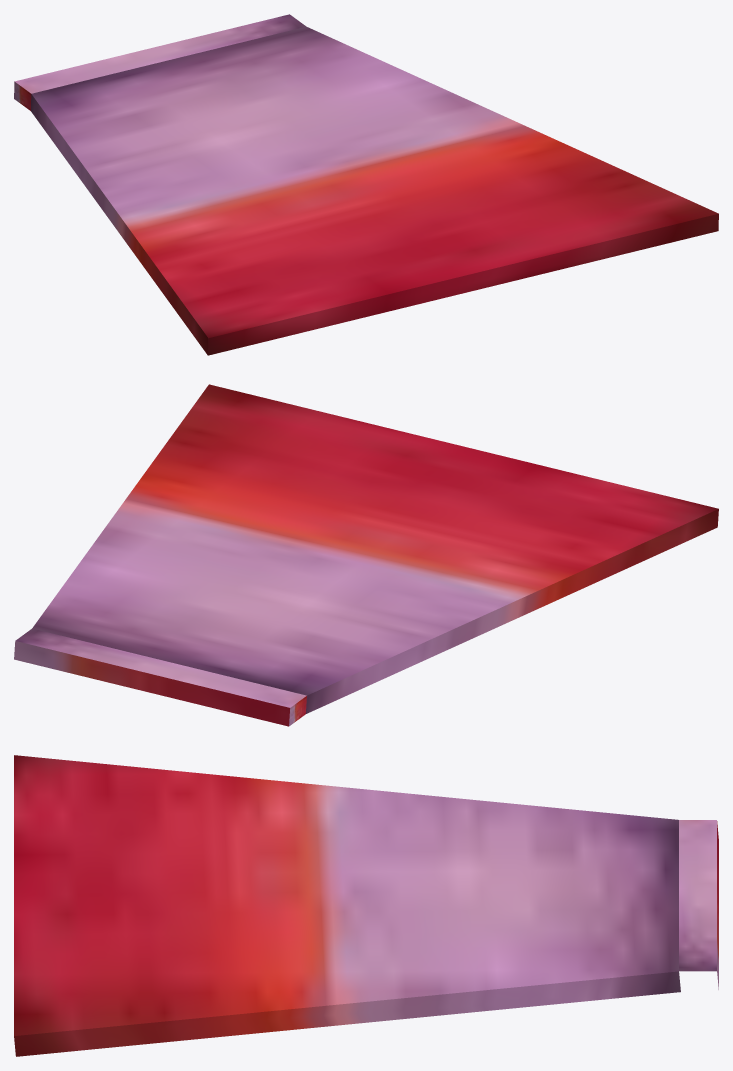
File: UFURMOWANA_MAGICZNA.glb
3 views of the same model, one above another, from view 1: azimuth 30°, elevation 25°; view 2: azimuth 150°, elevation 25°; view 3: azimuth 270°, elevation 25° (orthographic). The views are drawn at different scales.
Parts seen in each view (by area): view 1: UFURMOWANA_MAGICZNA; view 2: UFURMOWANA_MAGICZNA; view 3: UFURMOWANA_MAGICZNA.
Boxes of the visible parts, bbox=[...] form: UFURMOWANA_MAGICZNA: bbox=[14, 14, 718, 355]; UFURMOWANA_MAGICZNA: bbox=[14, 384, 718, 726]; UFURMOWANA_MAGICZNA: bbox=[14, 755, 718, 1056].
Bounding box in the file's own units: 0.2454 × 0.00833 × 0.26.
Materials: 1 (1 with a texture image).
